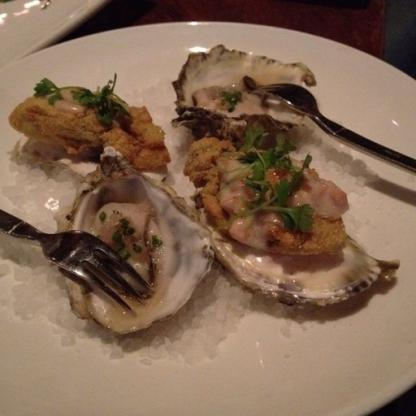oyster: (72, 154, 206, 336), (187, 50, 301, 140)
